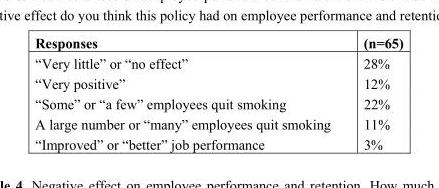table: (34, 34, 402, 151)
table column: (34, 34, 346, 151), (346, 34, 402, 151)
table column header: (34, 34, 402, 52)
table row: (34, 52, 402, 73), (34, 73, 402, 93), (34, 93, 402, 113), (34, 113, 402, 133), (34, 34, 402, 52), (34, 133, 402, 151)
